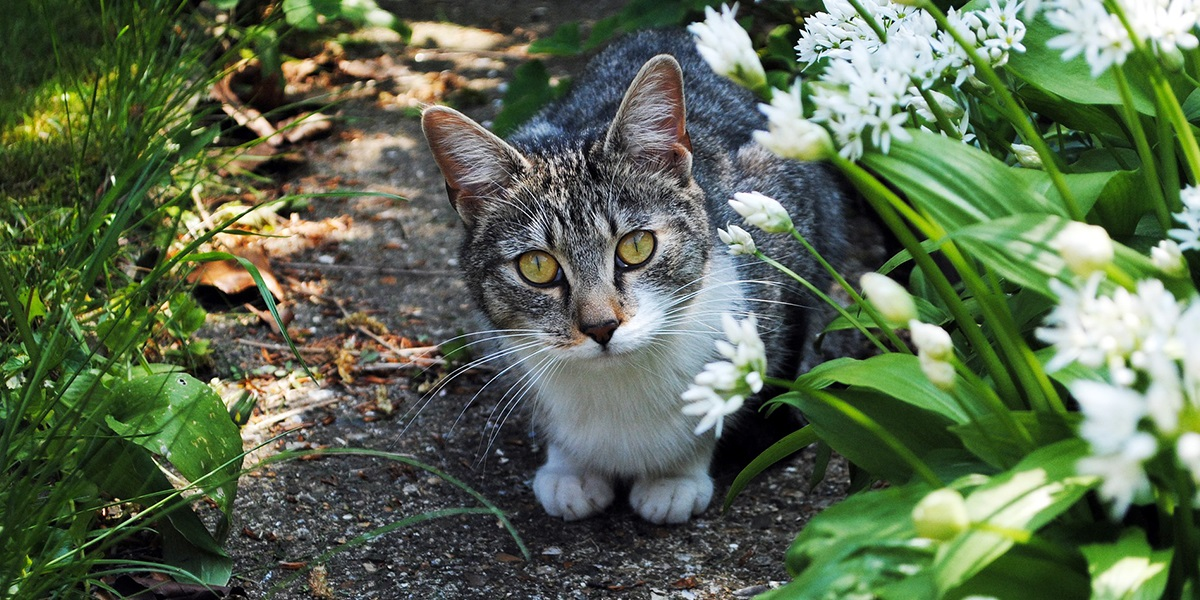cat: (424, 24, 848, 524)
